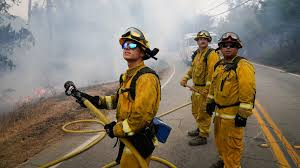emergent: (107, 27, 160, 167), (213, 32, 256, 167), (182, 31, 214, 145)
